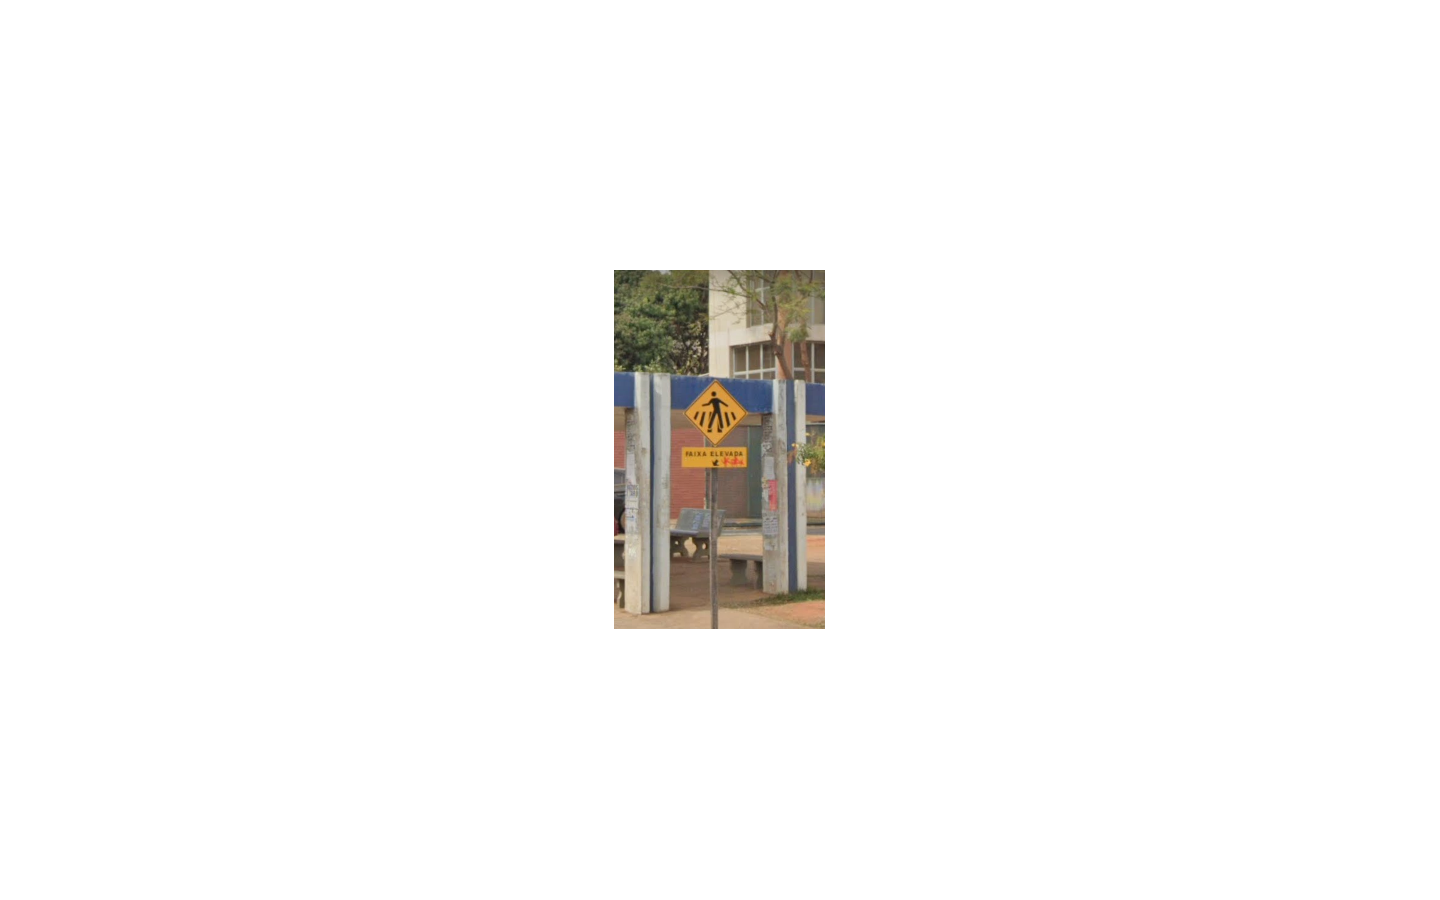telev: (681, 379, 749, 469)
